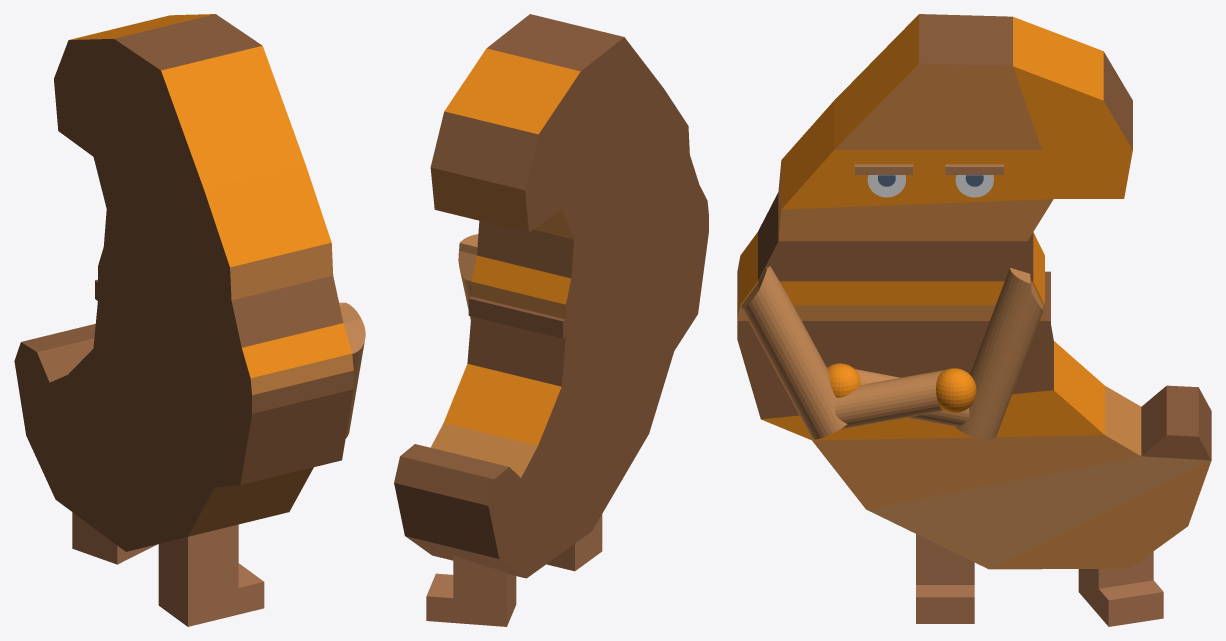
The model's file is CroissantDuh.glb.
The picture shows the model from 3 angles, left to right: view 1: azimuth 30°, elevation 25°; view 2: azimuth 150°, elevation 25°; view 3: azimuth 270°, elevation 25°; orthographic projection. The views are drawn at different scales.
Parts seen in each view (by area): view 1: Cube, Cube.001, Cube.002, Cylinder.002; view 2: Cube, Cube.002, Cube.001, Cylinder; view 3: Cube, Cylinder.002, Cylinder, Cube.001, Cube.002, Cylinder.003, Sphere, Cylinder.001, Sphere.001, Cube.003, Cube.004.
Part boxes in pixels (x1,y1,x2,y2): Cube: [14, 14, 353, 551]; Cube.001: [158, 524, 264, 626]; Cube.002: [72, 512, 157, 564]; Cylinder.002: [339, 302, 365, 438]; Cube: [394, 14, 708, 578]; Cube.002: [426, 555, 516, 626]; Cube.001: [546, 514, 602, 571]; Cylinder: [458, 234, 478, 320]; Cube: [737, 14, 1211, 569]; Cylinder.002: [741, 266, 847, 439]; Cylinder: [955, 268, 1042, 439]; Cube.001: [916, 534, 974, 623]; Cube.002: [1078, 551, 1163, 626]; Cylinder.003: [834, 370, 944, 428]; Sphere: [936, 368, 976, 413]; Cylinder.001: [855, 369, 969, 426]; Sphere.001: [827, 363, 860, 397]; Cube.003: [854, 164, 913, 174]; Cube.004: [945, 164, 1003, 174].
Size of the model in its own units: 0.5668 by 2.11 by 1.62.
